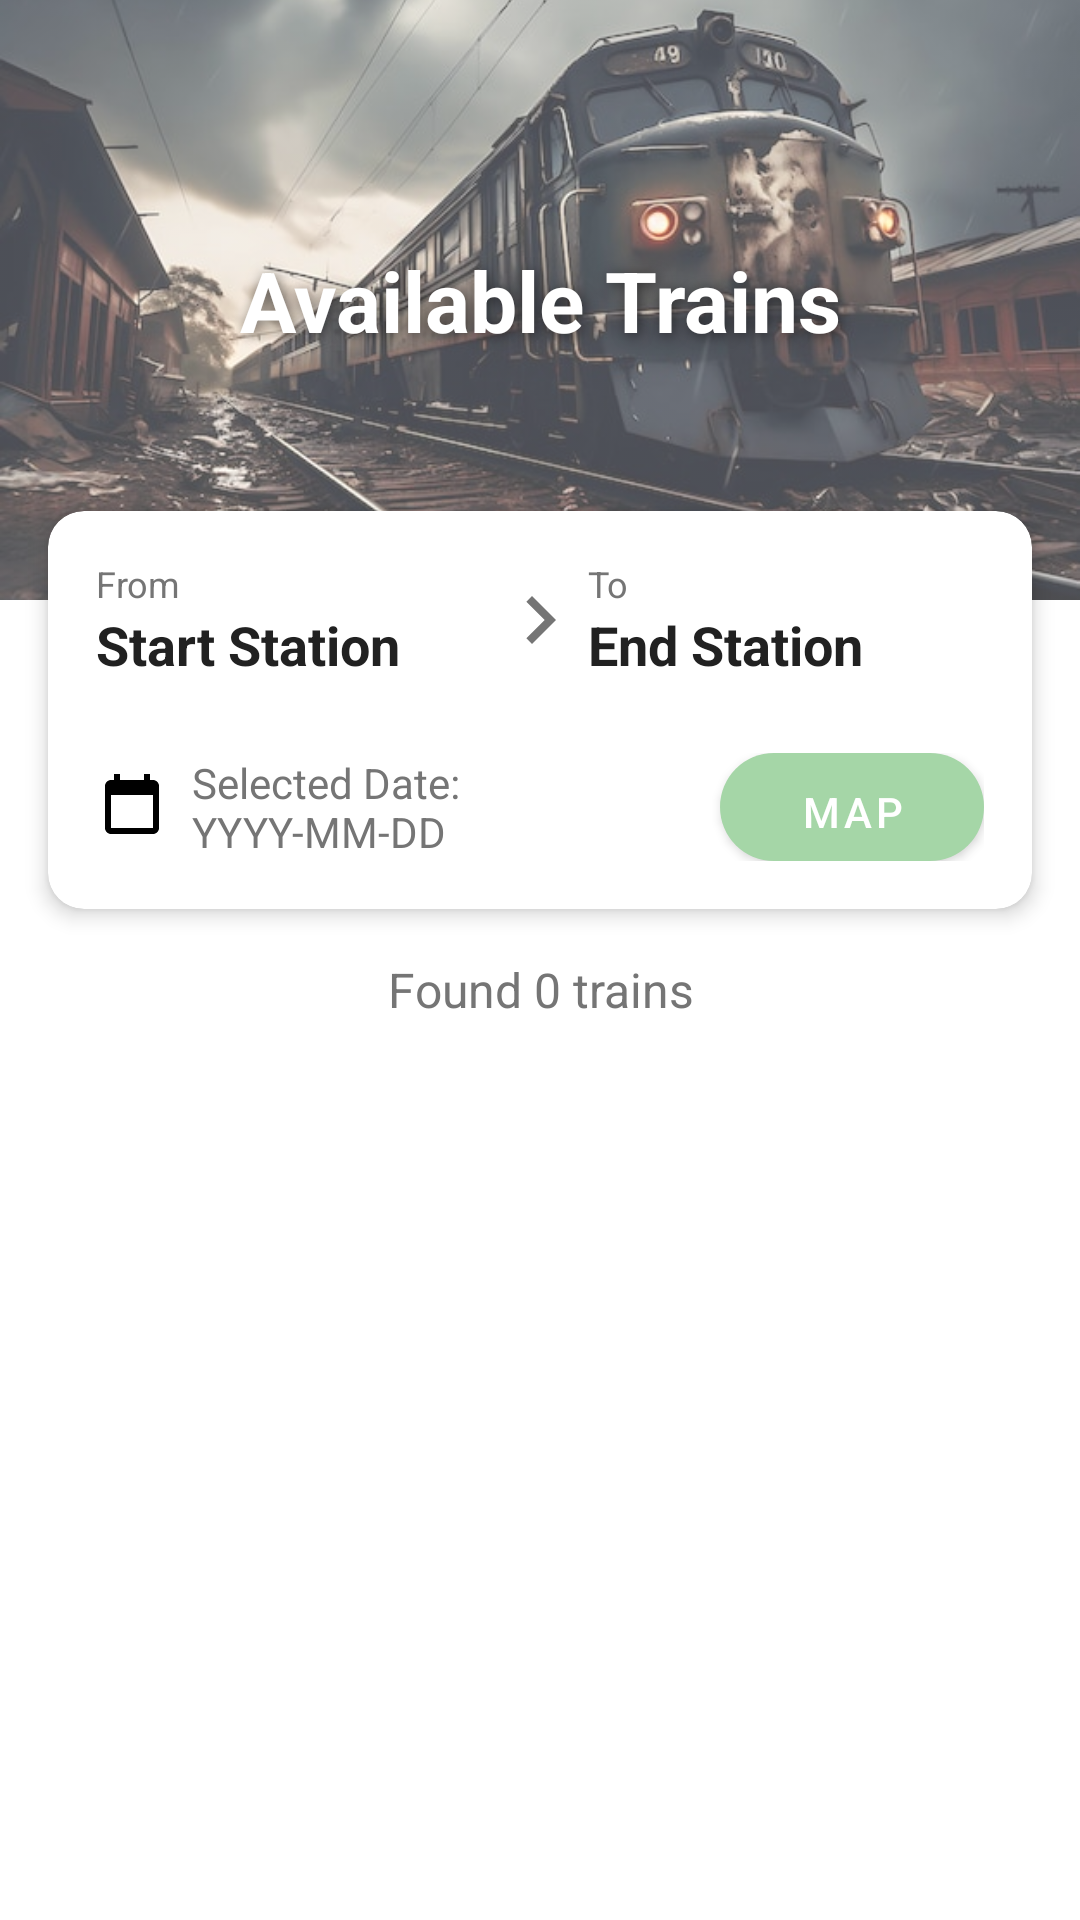

Icons on this 1080 x 1920 Android screen, each with the point to tap as [x,y]:
arrow right: [541,620]
